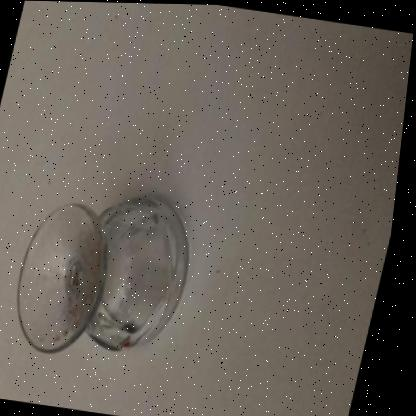Glass: (24, 198, 194, 353)
